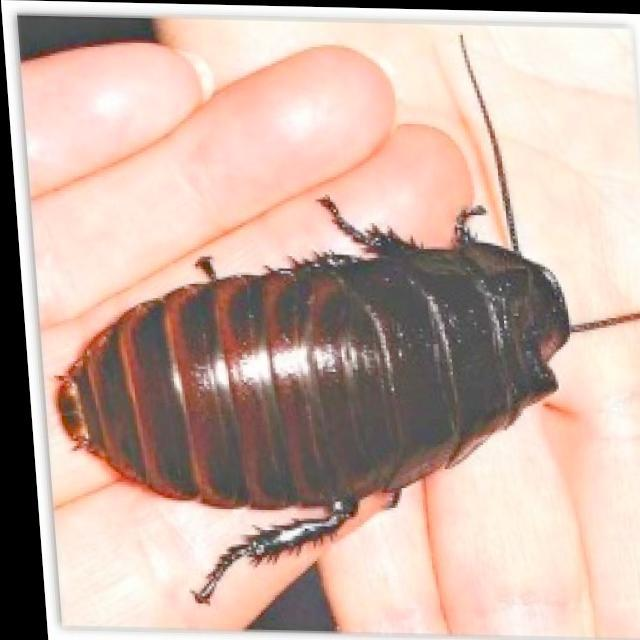cockroach: (50, 178, 627, 538)
